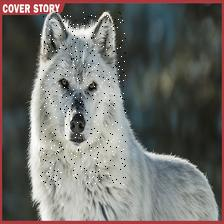WOLF: (41, 13, 127, 186)
